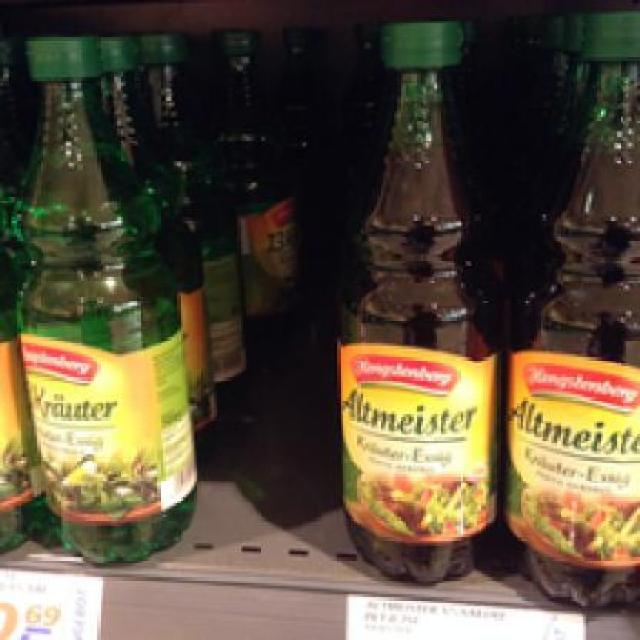Vinegar: (330, 14, 507, 580), (14, 29, 197, 558), (505, 11, 638, 604)
